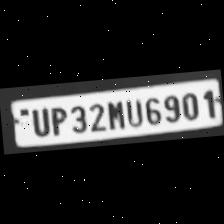0: (177, 88, 200, 122)
1: (198, 86, 221, 120)
2: (85, 100, 106, 132)
3: (66, 101, 88, 135)
6: (140, 94, 162, 127)
9: (159, 90, 181, 124)
M: (104, 98, 126, 132)
P: (46, 104, 68, 138)
U: (25, 105, 50, 138), (122, 96, 144, 128)
